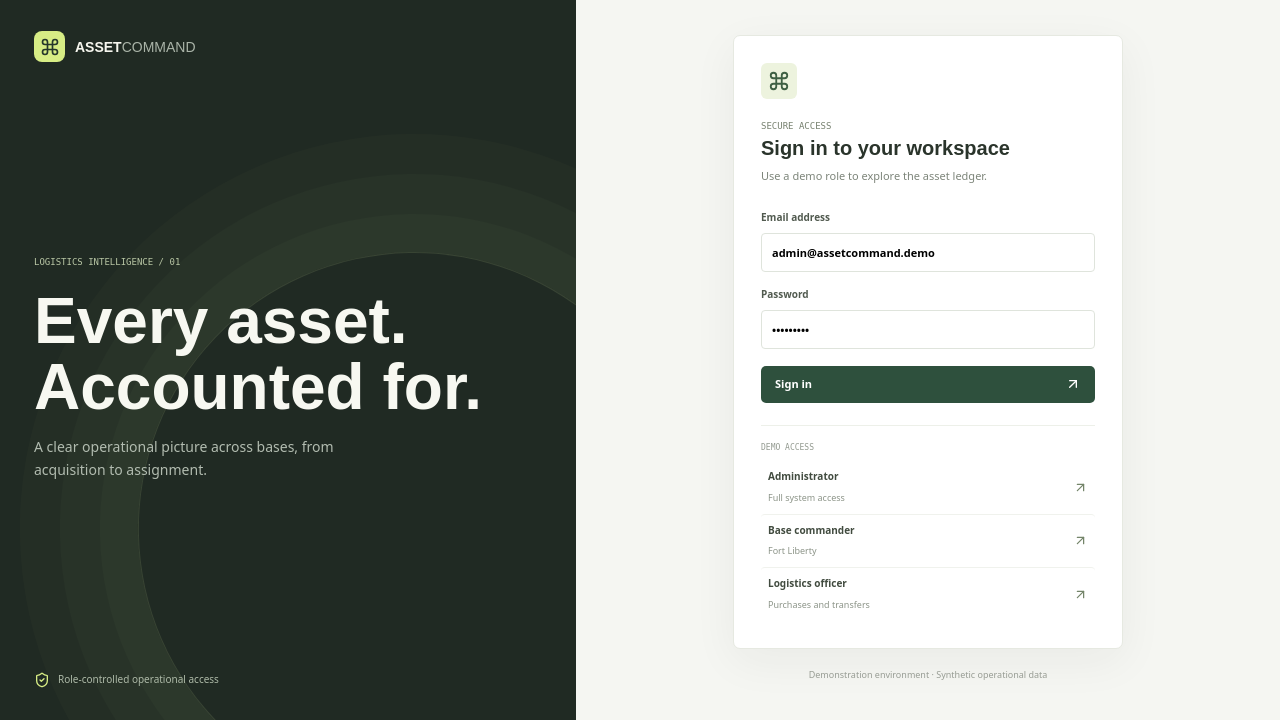
Scenario: Asset Command UI › limits logistics navigation to purchases and transfers
Click the button "Logistics officer Purchases and transfers". click: (807, 583)
box: [761, 567, 1095, 621]
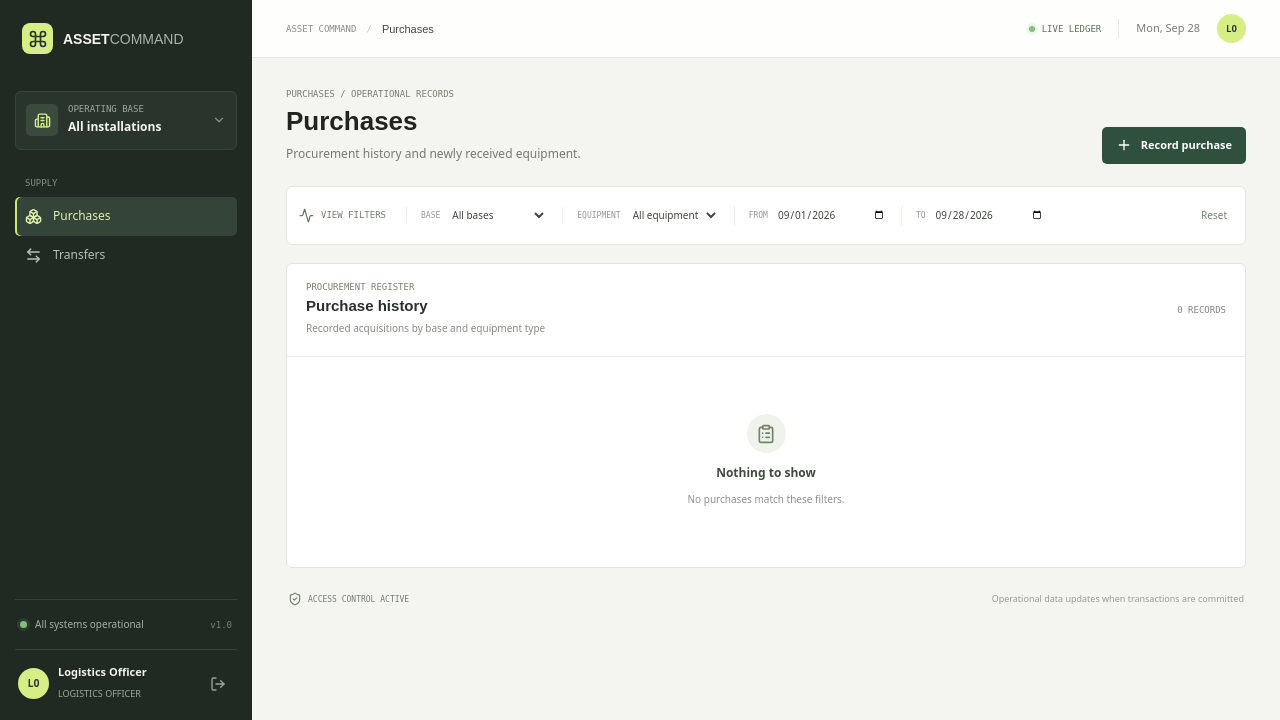
Expected: the button "Transfers" is shown, [15, 236, 237, 275]
Expected: the heading "Purchases" is shown, [286, 106, 418, 136]
